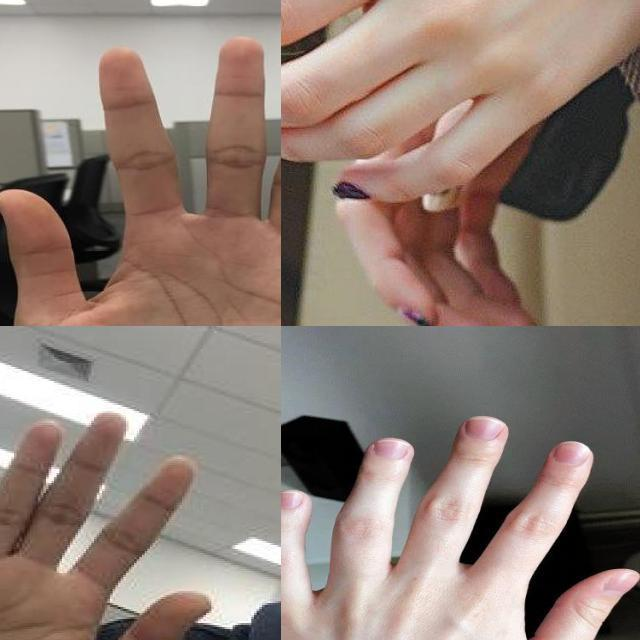no-gloves: (0, 34, 281, 326), (281, 413, 640, 640), (281, 0, 640, 206), (0, 409, 214, 640)
